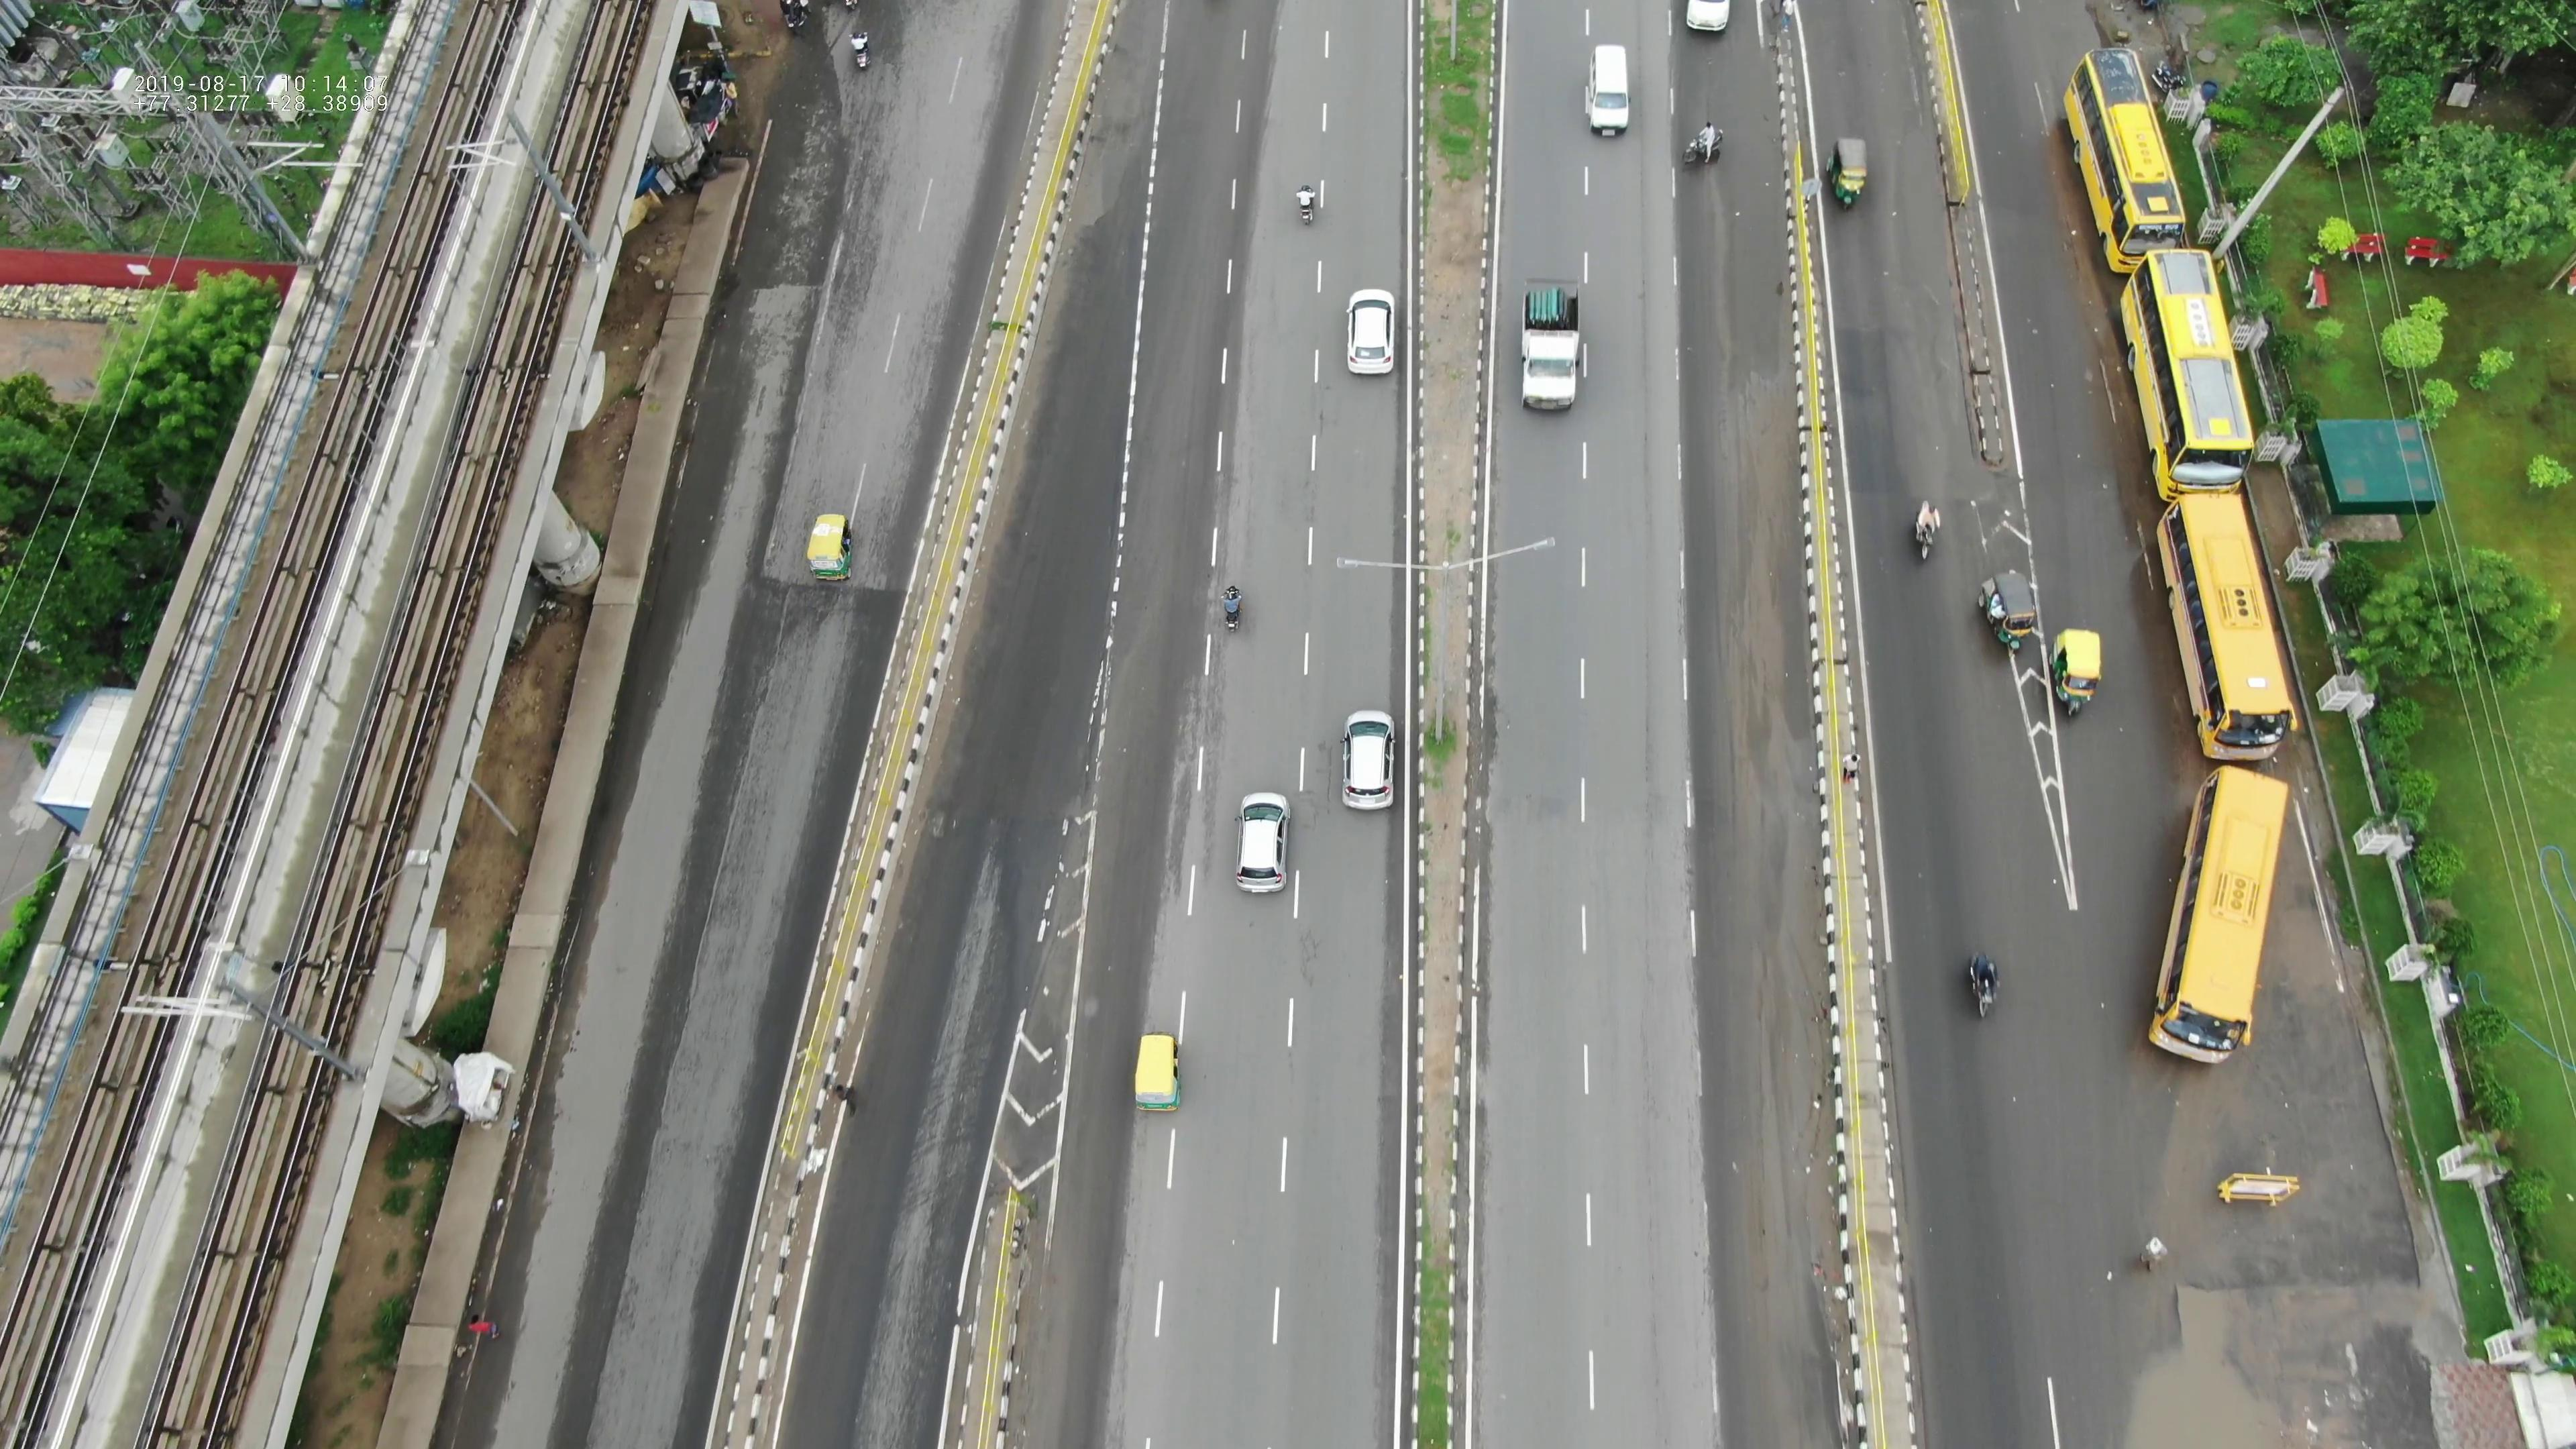Muddy_road: (1707, 904, 1835, 1336), (1707, 382, 1810, 824)
Waterlogging: (2093, 1300, 2358, 1445), (1683, 62, 1792, 366)
